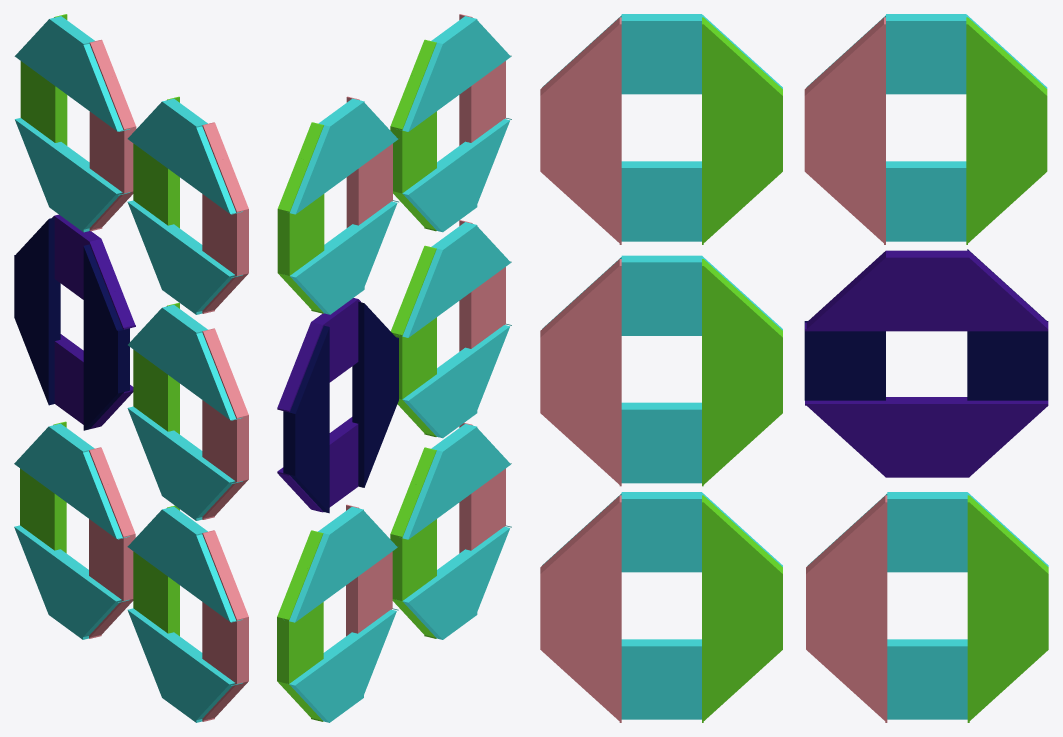
File: Acento.fbx
3 renders of one model, left to right at view 1: azimuth 30°, elevation 25°; view 2: azimuth 150°, elevation 25°; view 3: azimuth 270°, elevation 25°, orthographic. The views are drawn at different scales.
Visible parts, largest first — view 1: Cube.015; view 2: Cube.015; view 3: Cube.015.
Boxes of the visible parts, x1=… form: Cube.015: x1=14, y1=14, x2=248, y2=722; Cube.015: x1=277, y1=14, x2=511, y2=722; Cube.015: x1=540, y1=14, x2=1048, y2=722.
Bounding box in the file's own units: 60 × 1900 × 1254.
